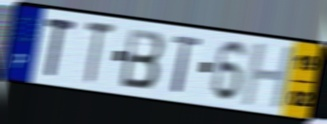6: (211, 39, 248, 104)
B: (118, 26, 166, 91)
H: (240, 42, 297, 111)
T: (82, 19, 117, 86), (44, 15, 78, 80), (171, 33, 203, 96)
